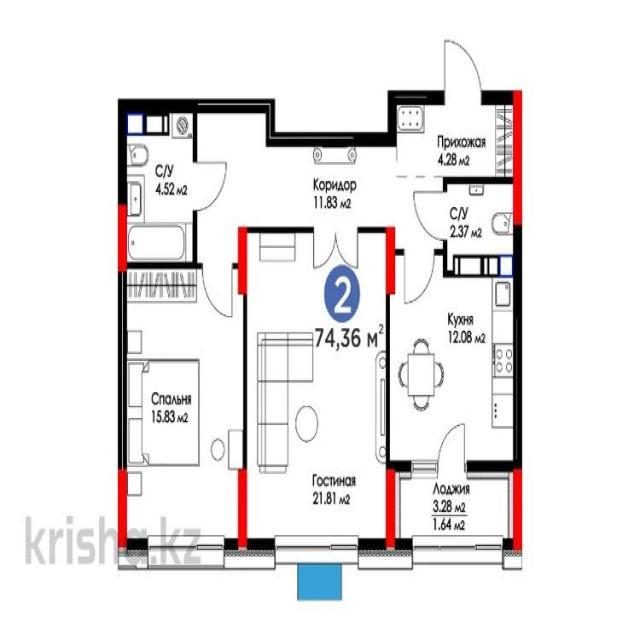balcony: (396, 471, 513, 546)
bathroom: (126, 113, 192, 260), (446, 186, 512, 252)
hallway: (197, 107, 514, 259)
kitchen: (391, 255, 515, 458)
living_room: (247, 235, 385, 544)
other: (127, 266, 242, 544)
